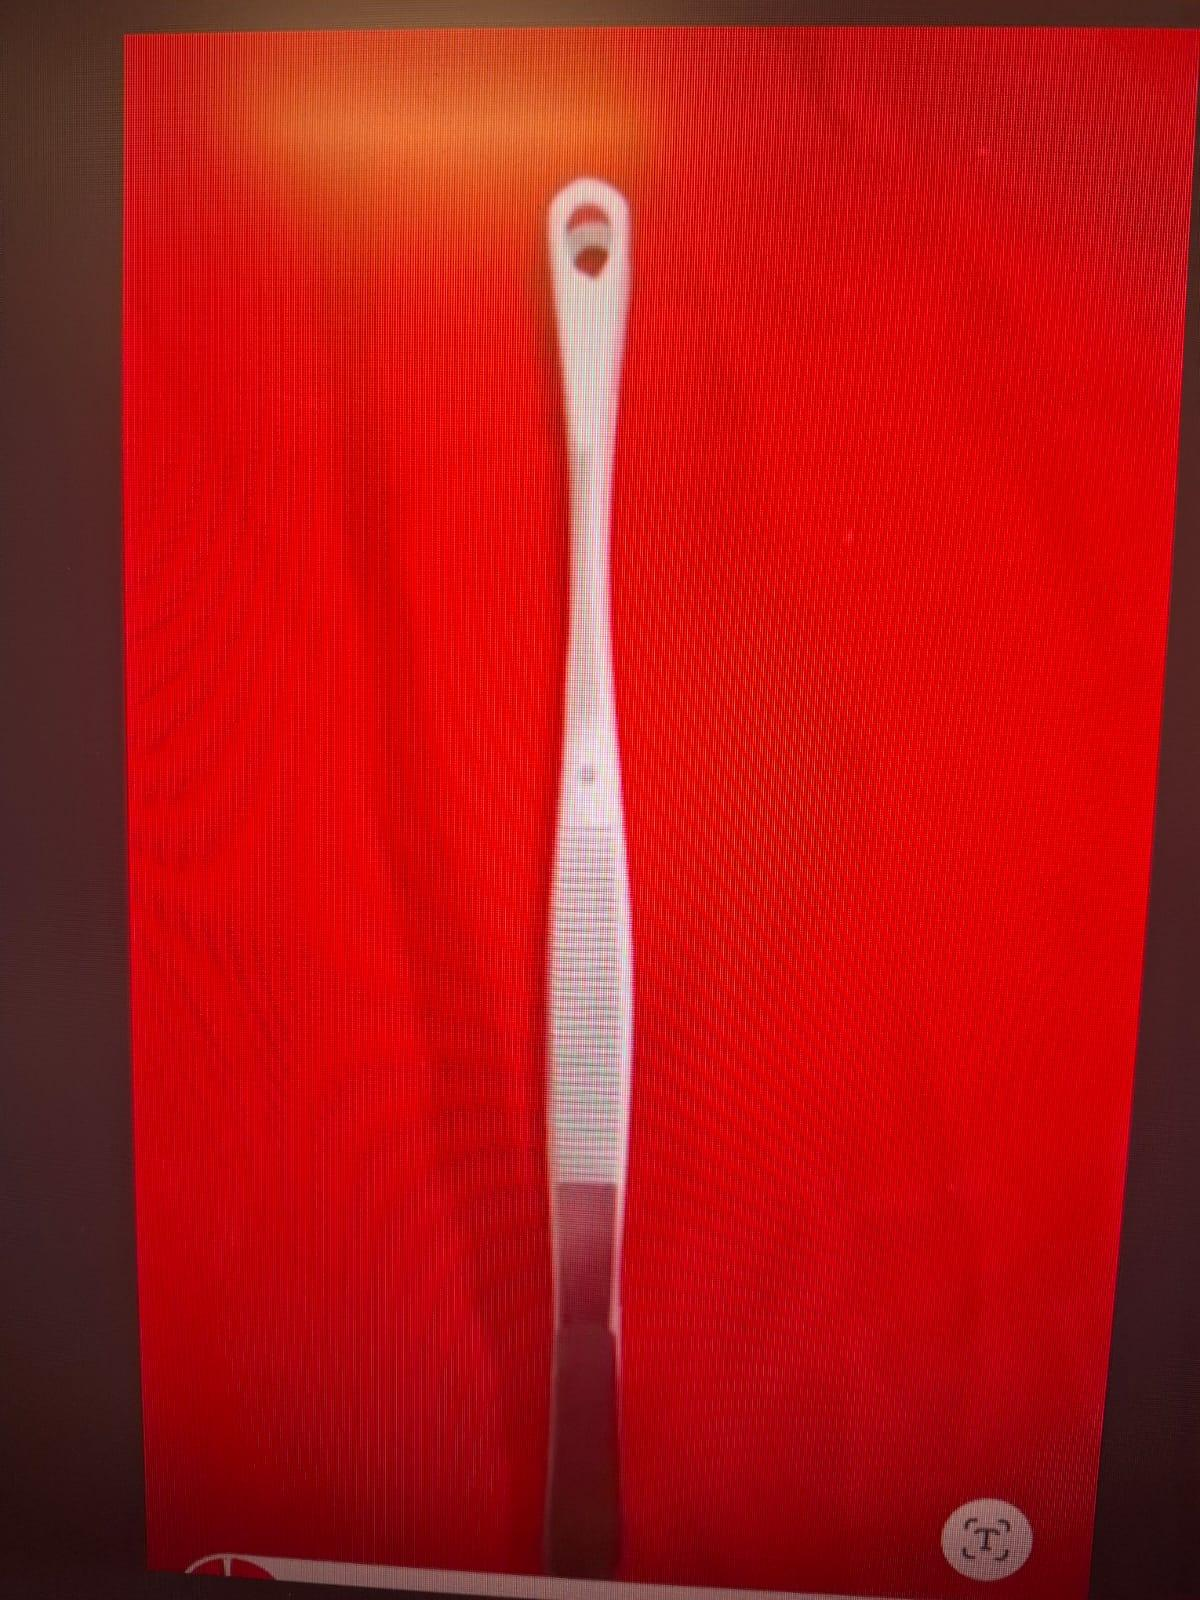Eye Intestinal Forceps: (490, 157, 697, 1567)
